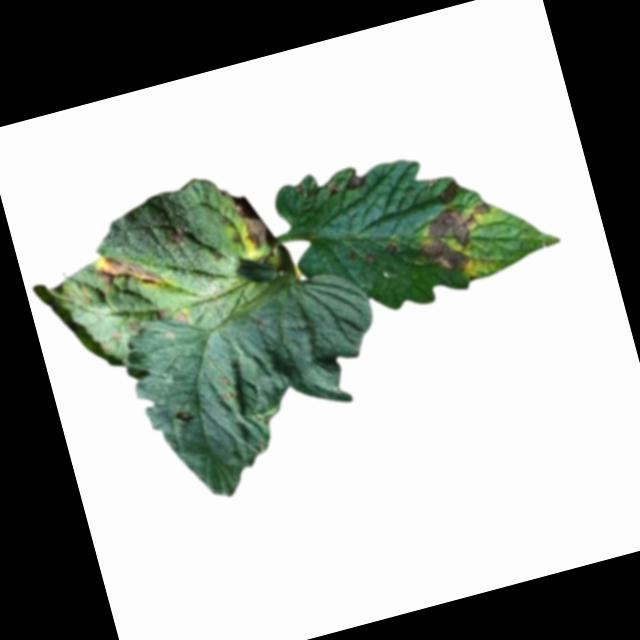Early_blight: (413, 198, 508, 283), (92, 240, 166, 296), (231, 189, 276, 254), (342, 169, 373, 192), (173, 405, 197, 426), (176, 307, 193, 326), (384, 238, 399, 255), (363, 247, 375, 262)
